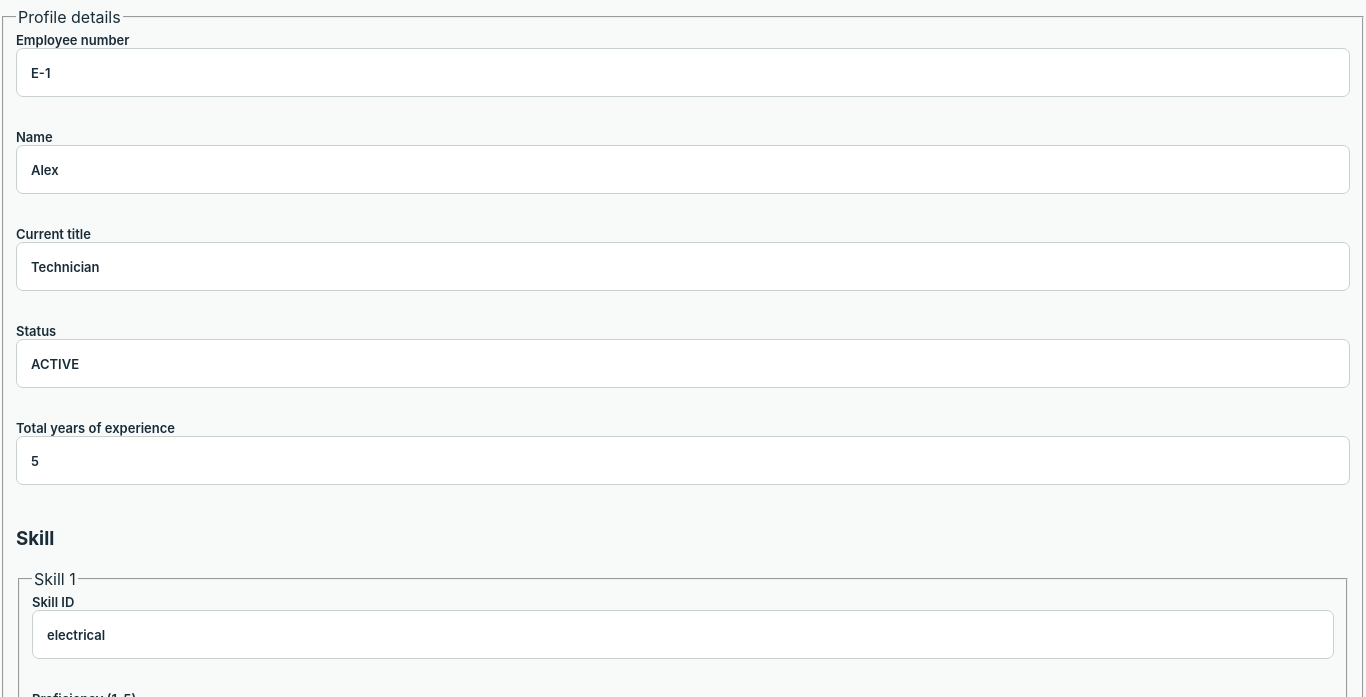
Test: stale deletion preserves draft and blocks repeated deletion
This screenshot has width=1366, height=697.
Replace the text in the field labelled "Name" with "Keep this draft" at (683, 170), box left=16, top=145, right=1350, bottom=194
(page scrolled)
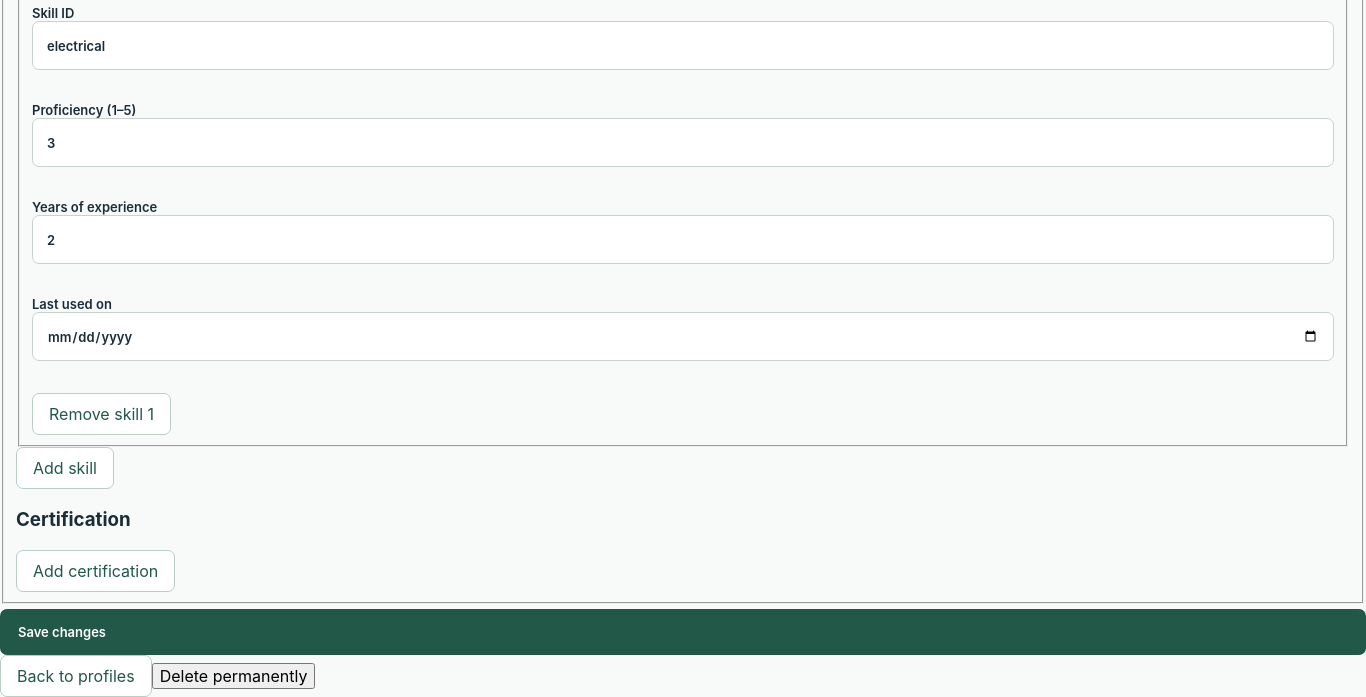
Click the button "Delete permanently".
click(234, 676)  # box left=152, top=663, right=315, bottom=689
(page scrolled)
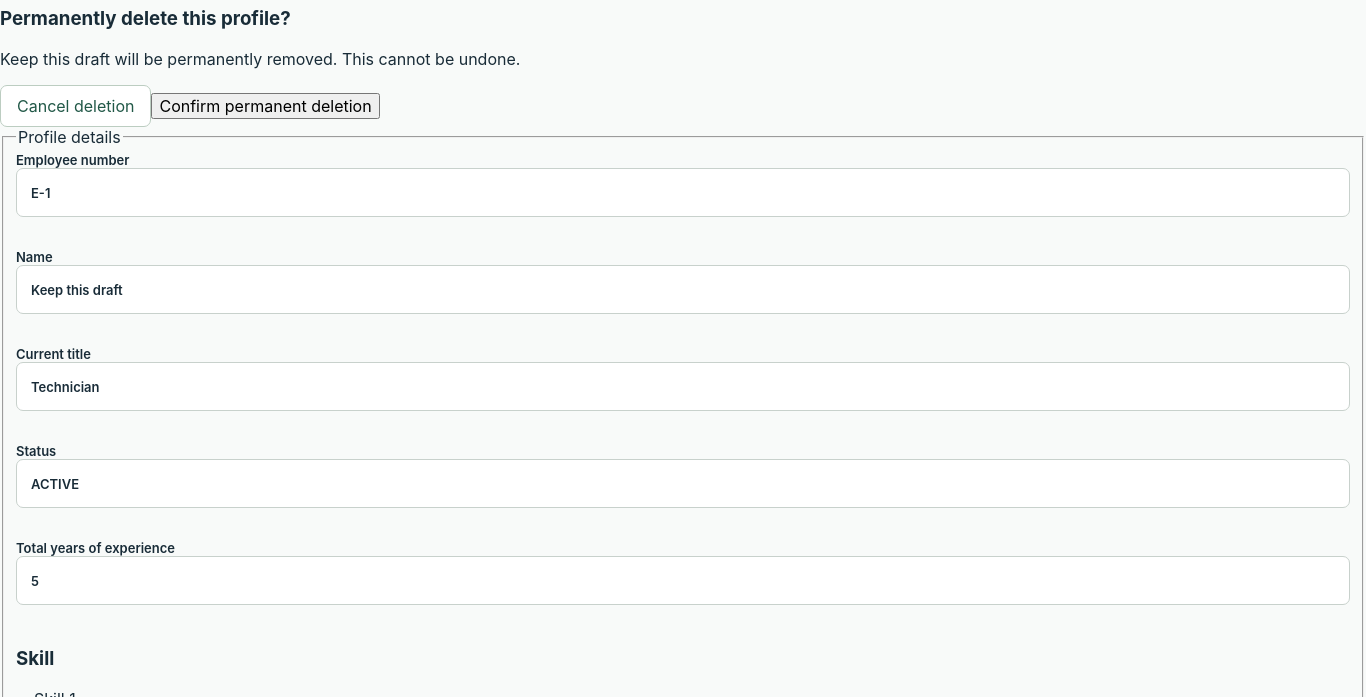
Click the button "Confirm permanent deletion".
click(266, 106)  # box left=152, top=92, right=380, bottom=118
(page scrolled)
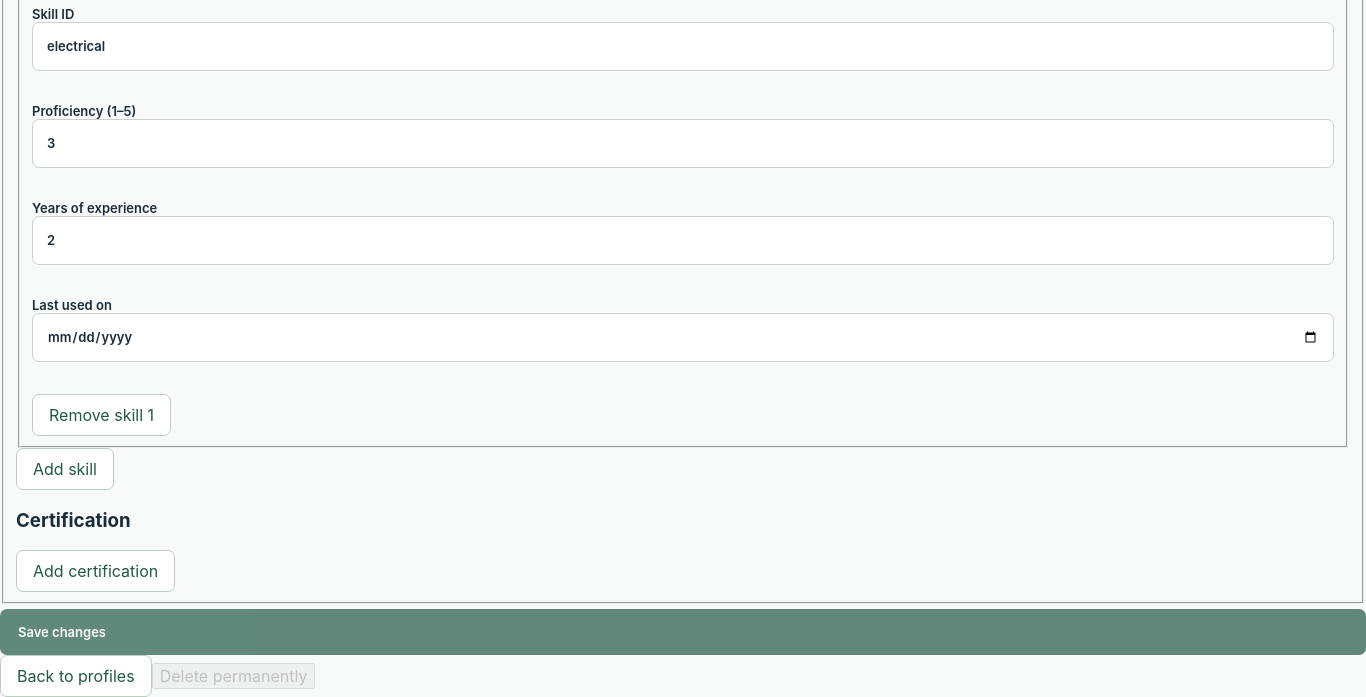
Expected: the button "Delete permanently" is disabled, left=152, top=663, right=315, bottom=689
